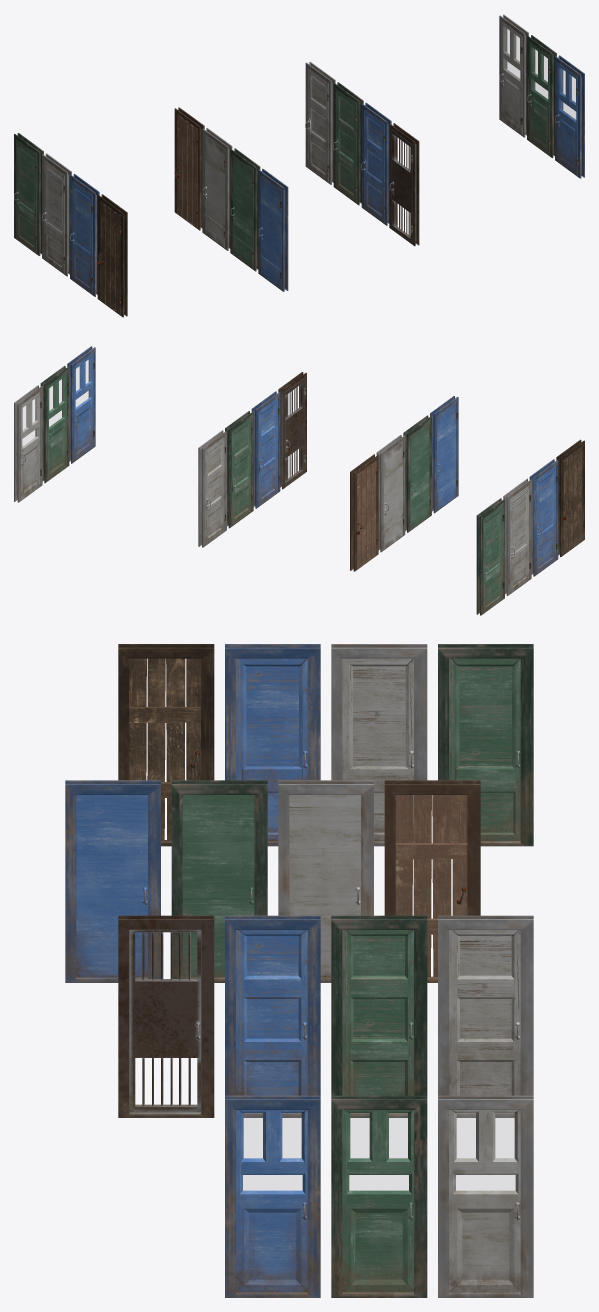
File: door_kit.glb
3 views of the same model, one above another, from view 1: azimuth 30°, elevation 25°; view 2: azimuth 150°, elevation 25°; view 3: azimuth 270°, elevation 25° (orthographic). The views are drawn at different scales.
Parts seen in each view (by area): view 1: wood_door_G_W, wood_door_P_B, wood_door_P_G, wood_door_OLD_W, wood_door_G_G, wood_door_OLD_D, wood_door_G_B, wood_door_T_W, wood_door_T_B, wood_door_P_W, wood_door_T_G, wood_door_B (+18 smaller); view 2: wood_door_G, wood_door_P_W, wood_door_B, wood_door_G_G, wood_door_T_B, wood_door_OLD_D, wood_door_OLD_W, wood_door_P_B, wood_door_W, wood_door_T_G, wood_door_G_B, wood_door_G_W (+18 smaller); view 3: wood_door_G_B, wood_door_G_G, wood_door_G_W, wood_door_T_B, wood_door_T_G, wood_door_T_W, wood_door_P_B, wood_door_G, wood_door_P_G, wood_door_B, wood_door_W, wood_door_P_W (+18 smaller).
Part boxes in pixels (x1=…): wood_door_G_W: x1=499, y1=21, x2=522, y2=134; wood_door_P_B: x1=258, y1=176, x2=281, y2=288; wood_door_P_G: x1=230, y1=155, x2=253, y2=268; wood_door_OLD_W: x1=175, y1=115, x2=201, y2=227; wood_door_G_G: x1=527, y1=42, x2=550, y2=155; wood_door_OLD_D: x1=98, y1=202, x2=124, y2=314; wood_door_G_B: x1=555, y1=62, x2=578, y2=175; wood_door_T_W: x1=305, y1=68, x2=328, y2=181; wood_door_T_B: x1=361, y1=109, x2=384, y2=222; wood_door_P_W: x1=202, y1=135, x2=225, y2=247; wood_door_T_G: x1=333, y1=89, x2=356, y2=202; wood_door_B: x1=70, y1=181, x2=92, y2=294; wood_door_G: x1=483, y1=504, x2=504, y2=612; wood_door_P_W: x1=383, y1=441, x2=404, y2=549; wood_door_B: x1=536, y1=466, x2=557, y2=573; wood_door_G_G: x1=47, y1=372, x2=68, y2=480; wood_door_T_B: x1=258, y1=398, x2=279, y2=505; wood_door_OLD_D: x1=559, y1=446, x2=583, y2=553; wood_door_OLD_W: x1=353, y1=461, x2=377, y2=568; wood_door_P_B: x1=437, y1=402, x2=457, y2=510; wood_door_W: x1=510, y1=485, x2=530, y2=593; wood_door_T_G: x1=232, y1=417, x2=252, y2=525; wood_door_G_B: x1=74, y1=353, x2=94, y2=460; wood_door_G_W: x1=21, y1=392, x2=41, y2=499; wood_door_G_B: x1=236, y1=1110, x2=307, y2=1292; wood_door_G_G: x1=342, y1=1110, x2=413, y2=1292; wood_door_G_W: x1=449, y1=1110, x2=520, y2=1292; wood_door_T_B: x1=236, y1=930, x2=307, y2=1095; wood_door_T_G: x1=342, y1=930, x2=413, y2=1095; wood_door_T_W: x1=449, y1=930, x2=520, y2=1095; wood_door_P_B: x1=76, y1=795, x2=147, y2=977; wood_door_G: x1=449, y1=658, x2=520, y2=840; wood_door_P_G: x1=182, y1=795, x2=254, y2=977; wood_door_B: x1=236, y1=658, x2=307, y2=840; wood_door_W: x1=342, y1=658, x2=413, y2=840; wood_door_P_W: x1=289, y1=795, x2=360, y2=977.
Size of the model in its own units: 1024 by 205 by 440.
2 materials, 1 textured.
